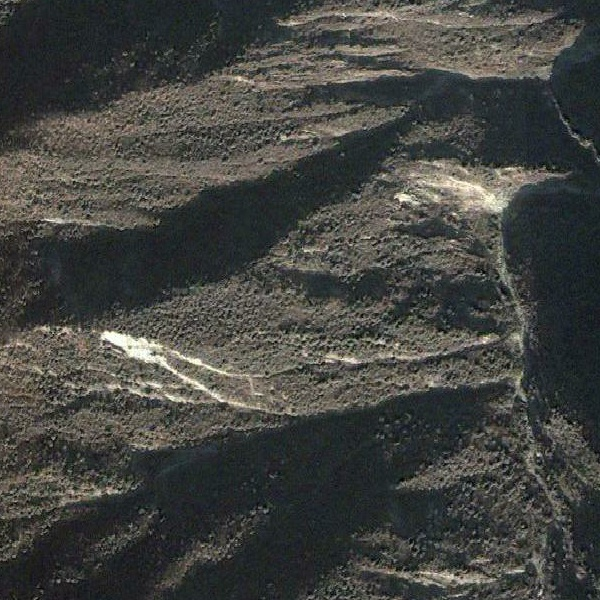slope: (395, 151, 515, 234), (91, 322, 197, 385)
